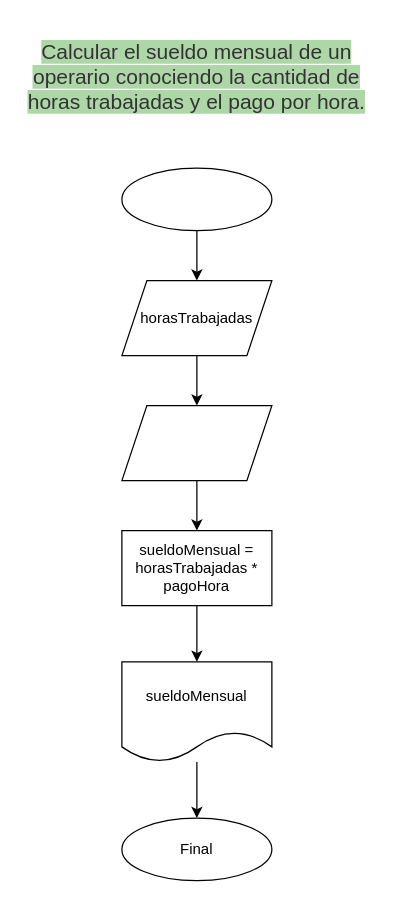
Image size: 393x903. Some labels were removed from this diagram. Here are the shapes that lost their labels. From the top down, the centre of each, then its label:
At pixel 196 199: "inicio".
At pixel 196 442: "pagoHora".
